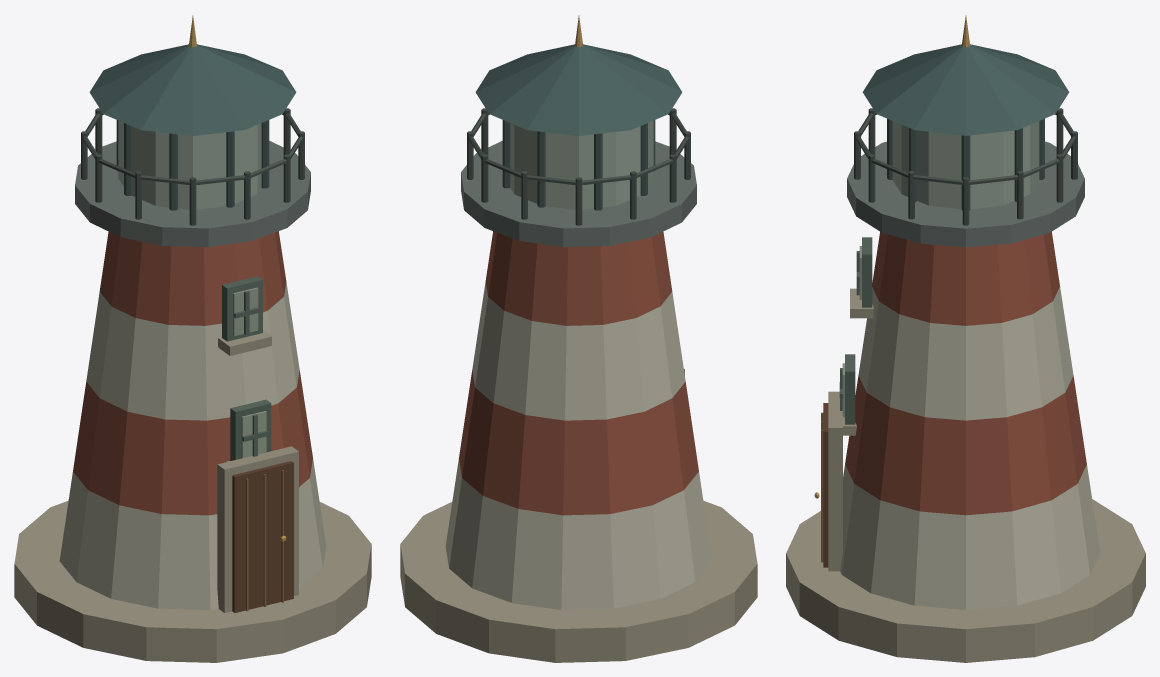
File: build-lighthouse.glb
3 views of the same model, side by side, from view 1: azimuth 30°, elevation 25°; view 2: azimuth 150°, elevation 25°; view 3: azimuth 270°, elevation 25° (orthographic).
Visible parts, largest first — view 1: SculptedModel; view 2: SculptedModel; view 3: SculptedModel.
Part boxes in pixels (x1,y1,x2,y2): SculptedModel: (14, 15, 371, 662); SculptedModel: (400, 15, 757, 662); SculptedModel: (786, 15, 1145, 662).
Size of the model in its own units: 3.48 by 6.11 by 3.48.
